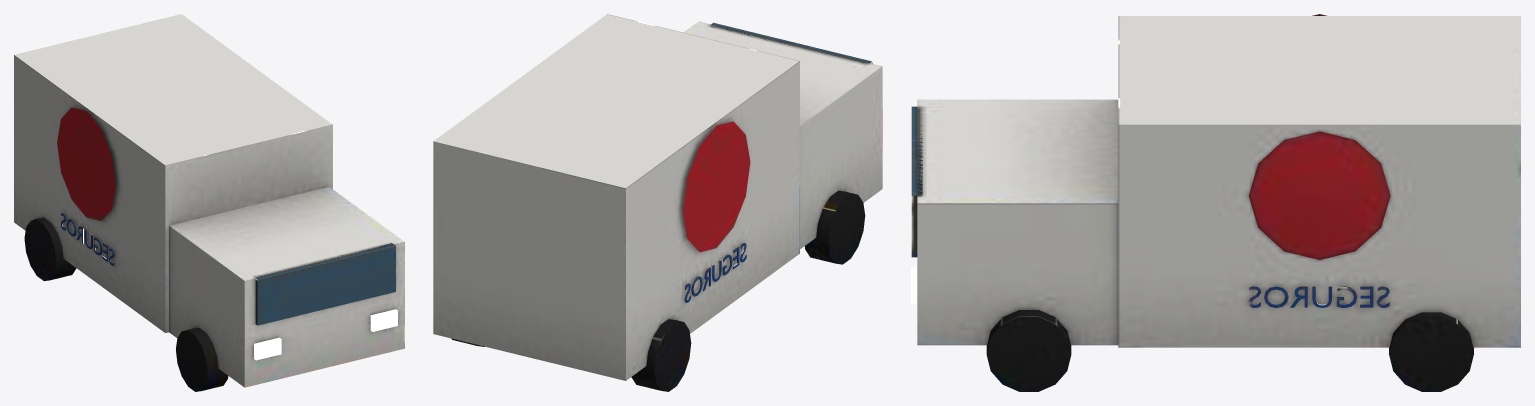
Rendered from furgon_seguros.glb.
3 renders of one model, left to right at view 1: azimuth 30°, elevation 25°; view 2: azimuth 150°, elevation 25°; view 3: azimuth 270°, elevation 25°, orthographic. The views are drawn at different scales.
Visible parts, largest first — view 1: furgon_seguros; view 2: furgon_seguros; view 3: furgon_seguros.
Part boxes in pixels (<box>): furgon_seguros: <box>14,14,404,391</box>; furgon_seguros: <box>433,14,882,391</box>; furgon_seguros: <box>911,14,1520,391</box>.
Size of the model in its own units: 2.5 by 2.59 by 5.45.
1 material, 1 textured.
